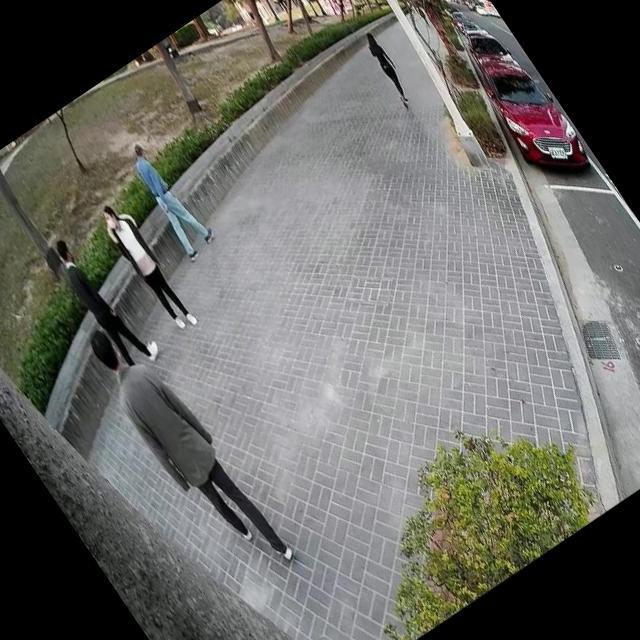person: (72, 298, 304, 596), (40, 220, 166, 380), (90, 193, 204, 339), (113, 132, 221, 266), (350, 21, 424, 116)
